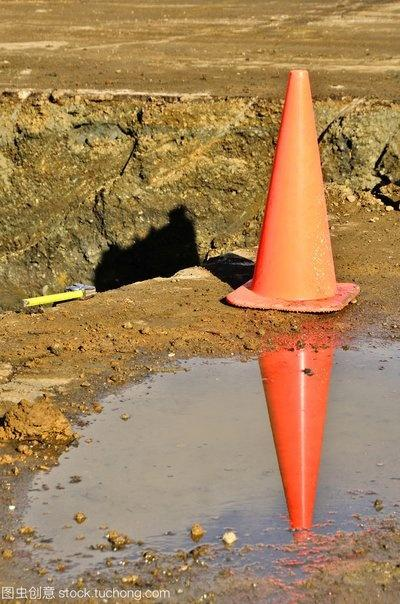cone_barrel: (232, 73, 355, 311), (247, 303, 352, 536)
